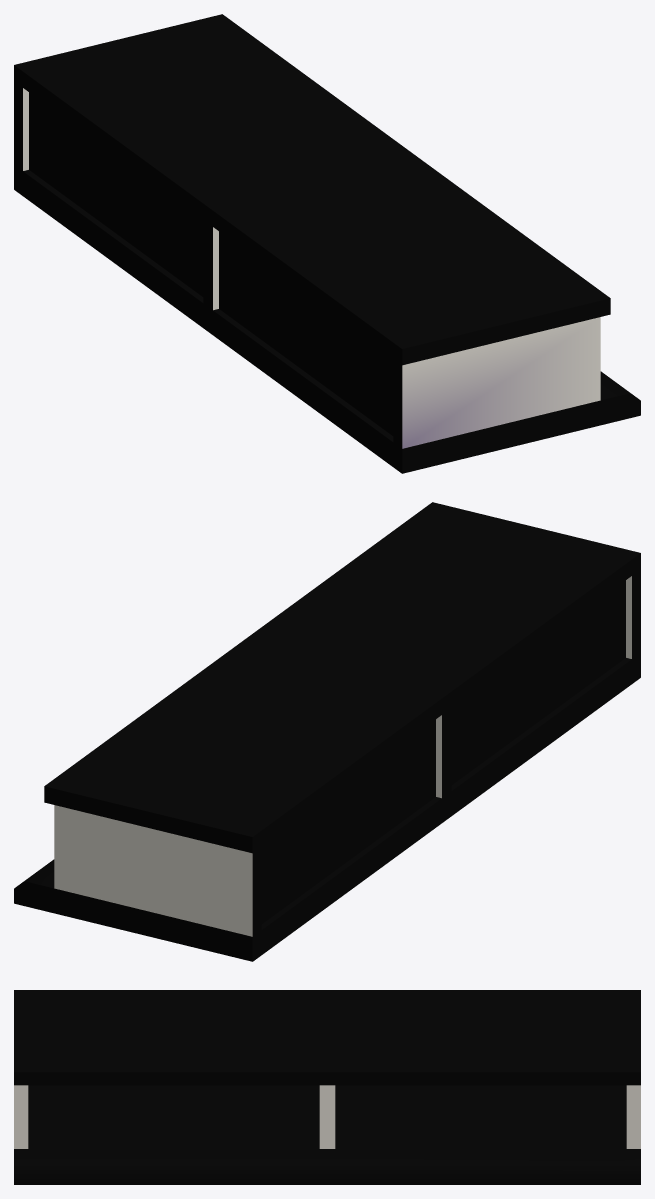
The picture shows the model from 3 angles, top to bottom: view 1: azimuth 30°, elevation 25°; view 2: azimuth 150°, elevation 25°; view 3: azimuth 270°, elevation 25°; orthographic projection. The views are drawn at different scales.
Visible parts, largest first — view 1: Joint_0_Object_0, Joint_0_Object_2, Joint_0_Object_1, Joint_0_Object_3; view 2: Joint_0_Object_0, Joint_0_Object_2, Joint_0_Object_1, Joint_0_Object_3; view 3: Joint_0_Object_0, Joint_0_Object_1.
Boxes of the visible parts, box(x1,y1,x2,y2) form: Joint_0_Object_0: box(14, 14, 640, 473); Joint_0_Object_2: box(29, 92, 393, 435); Joint_0_Object_1: box(23, 88, 600, 448); Joint_0_Object_3: box(14, 81, 402, 448); Joint_0_Object_0: box(14, 502, 640, 961); Joint_0_Object_2: box(261, 580, 625, 923); Joint_0_Object_1: box(54, 576, 631, 936); Joint_0_Object_3: box(252, 569, 640, 936); Joint_0_Object_0: box(14, 990, 640, 1184); Joint_0_Object_1: box(14, 1085, 640, 1148).
Bounding box in the file's own units: 1421 × 709 × 4000.
4 materials, 3 textured.
